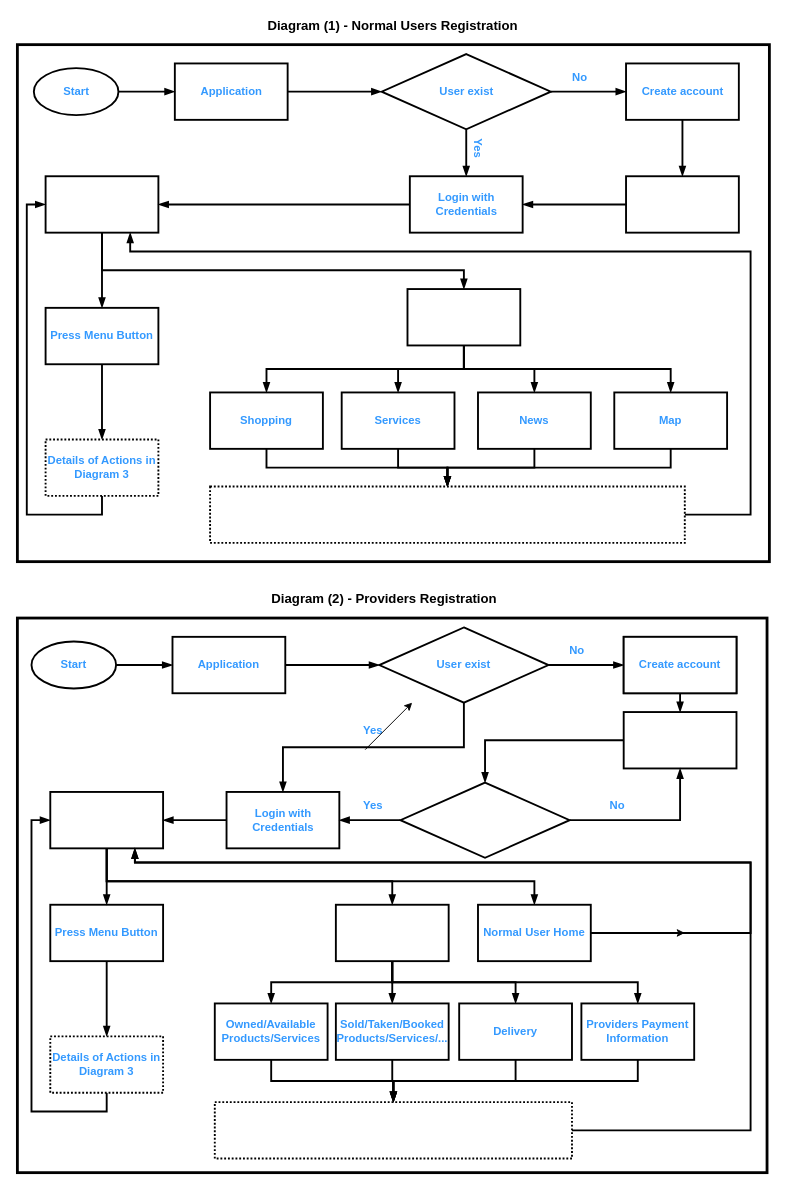
Image size: 787x1190. Some labels were removed from this diagram. The centre of each missing label's shape, as x and y in pixels:
Dashboard Options: [391,932]
Details of Action in Diagram 4: [447,514]
Details of Action in Diagram 5: [392,1130]
Documents Confirmation: [484,819]
Home: [101,204]
Home page Options: [463,317]
Providers Dashboard: [106,820]
Redirect to registration: [682,204]
Uploading Documents: [679,740]
